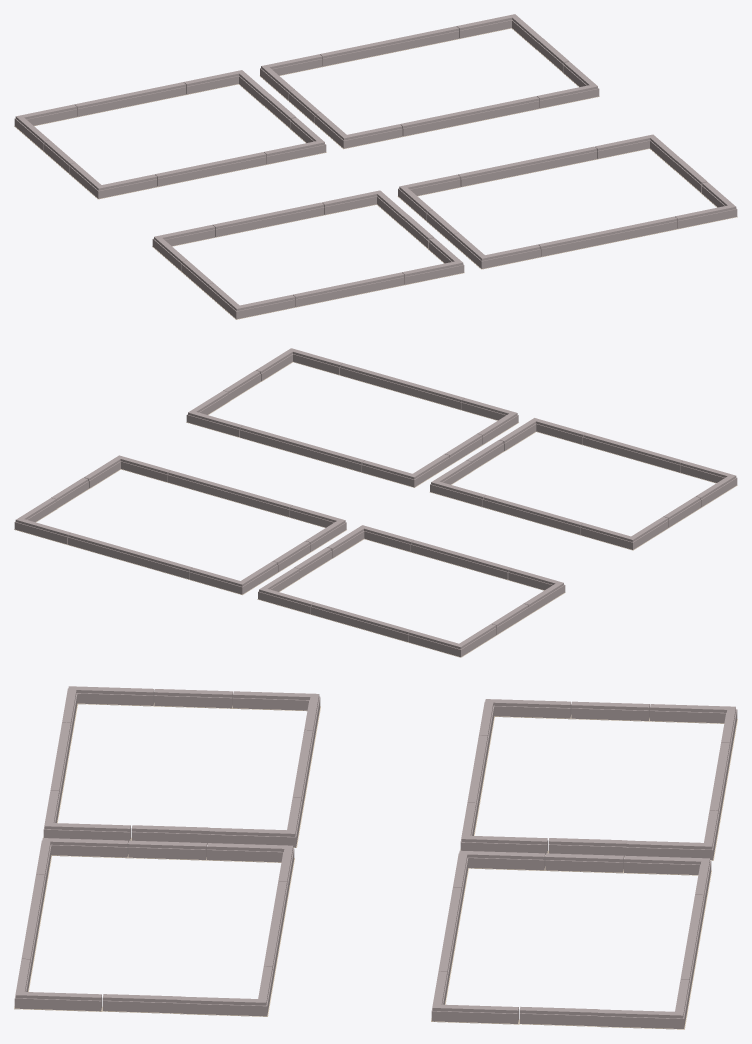
File: Room4015Zone2.fbx
3 renders of one model, top to bottom at view 1: azimuth 30°, elevation 25°; view 2: azimuth 150°, elevation 25°; view 3: azimuth 270°, elevation 25°, orthographic. The views are drawn at different scales.
Visible parts, largest first — view 1: Room4.015Zone2; view 2: Room4.015Zone2; view 3: Room4.015Zone2.
Boxes of the visible parts, x1,y1,x2,y2 form: Room4.015Zone2: [14, 14, 737, 319]; Room4.015Zone2: [14, 348, 737, 657]; Room4.015Zone2: [14, 686, 737, 1029].
Bounding box in the file's own units: 5.41 × 0.104 × 5.01.
